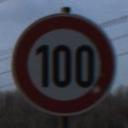speed_limit_100: (11, 12, 117, 117)
